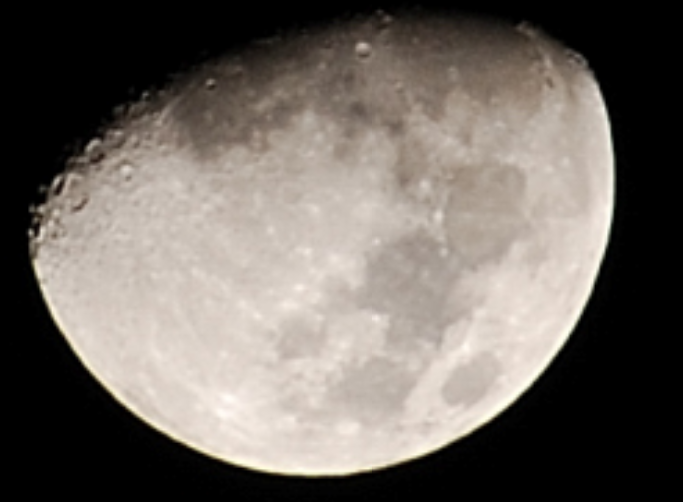crater: (344, 39, 381, 65), (113, 160, 146, 186), (200, 71, 222, 105), (555, 152, 582, 177), (426, 238, 453, 262), (422, 197, 446, 222)
